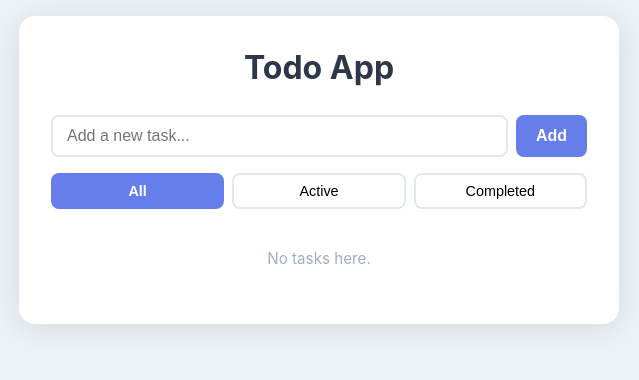
Test: App › filters todos - shows only completed
In the field with placeholder "Add a new task...": (279,136) [51,115,508,157], type "Active task"
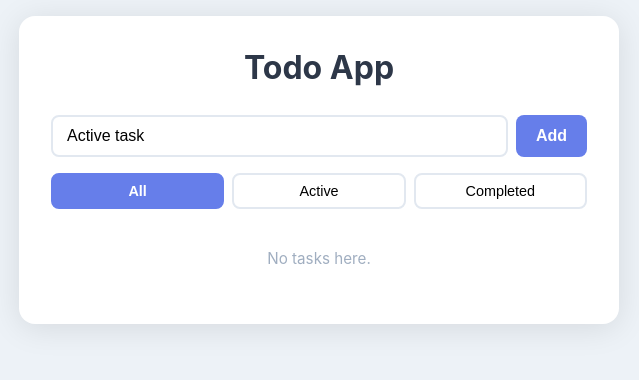
Click the button "Add": (551,136) [516,115,587,157]
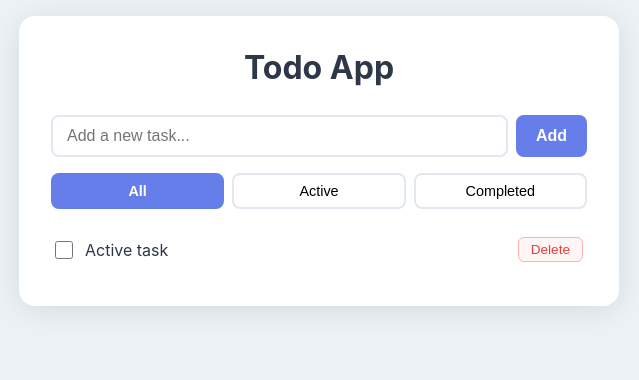
In the field with placeholder "Add a new task...": (279,136) [51,115,508,157], type "Done task"
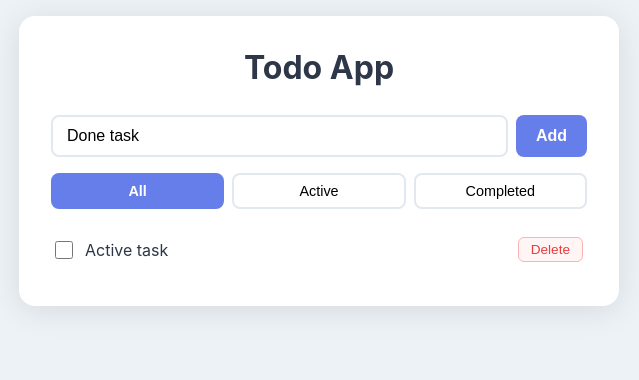
Click the button "Add": (551,136) [516,115,587,157]
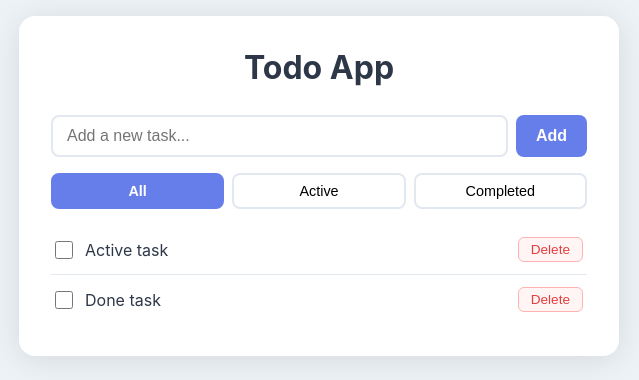
Click the checkbox next to "Done task": (64,300) [55,290,73,308]
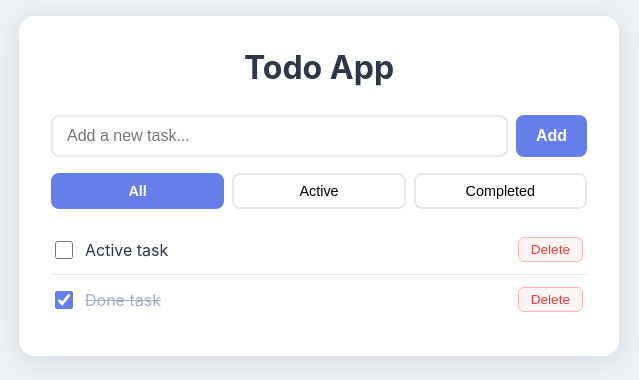
Click the button "Completed": (500,191) [414,173,587,209]
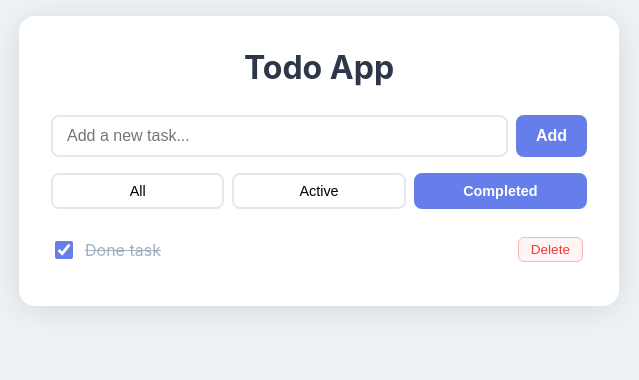
Check: the text "Done task" is shown, box [85,240,161,260]
Check: the text "Active task" is gone
